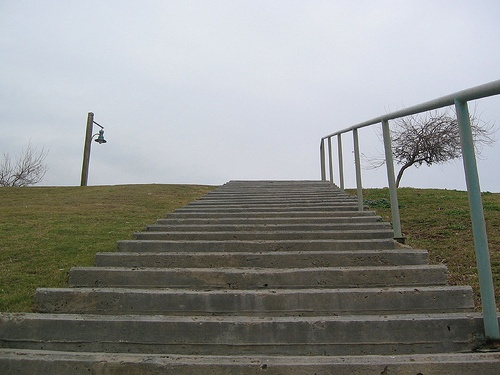stairs_up: (112, 177, 416, 373)
